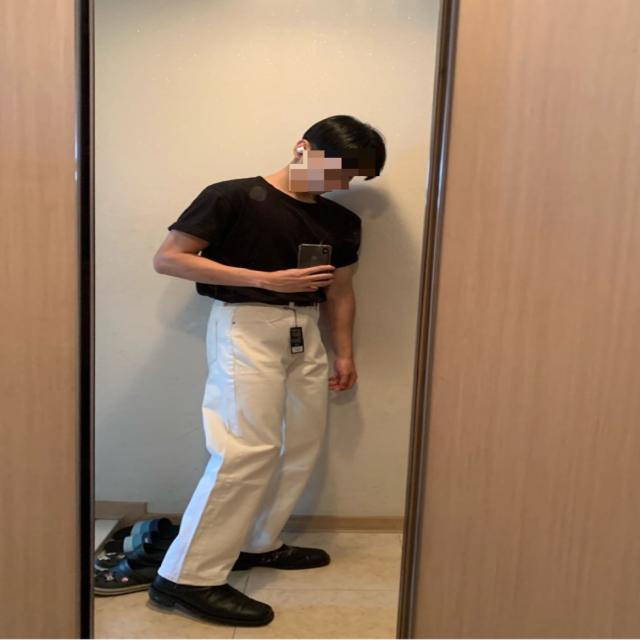cottonpants: (156, 298, 332, 590)
shortsleeve: (165, 175, 364, 308)
